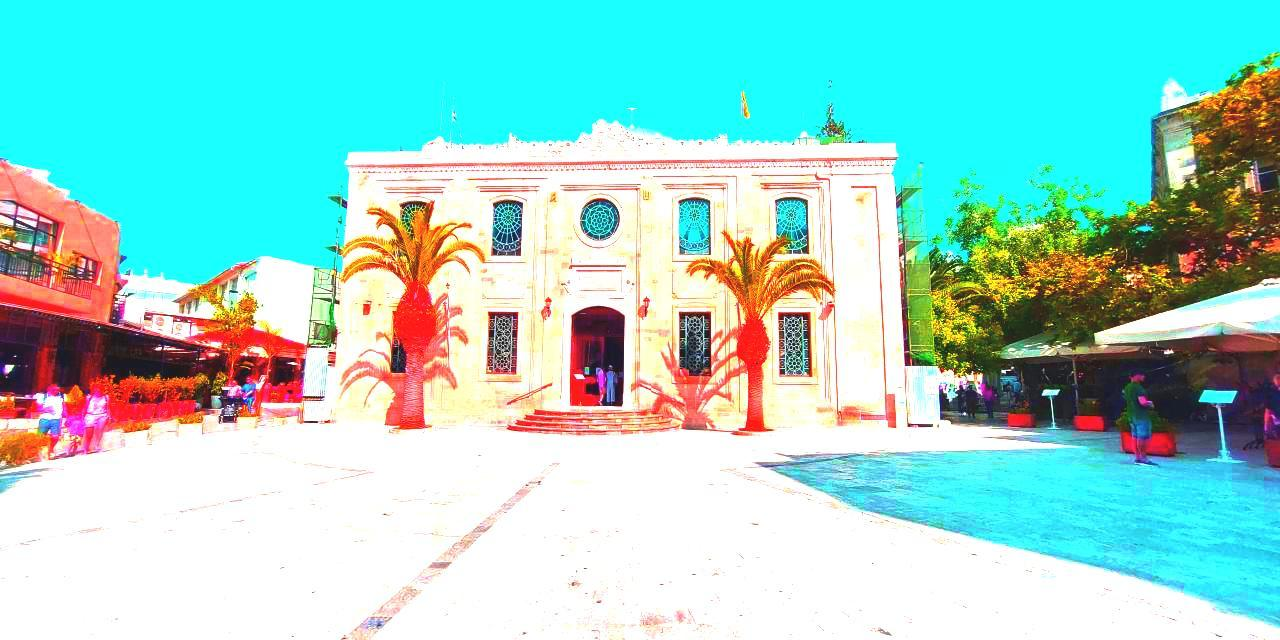Agios Titos: (350, 130, 911, 429)
